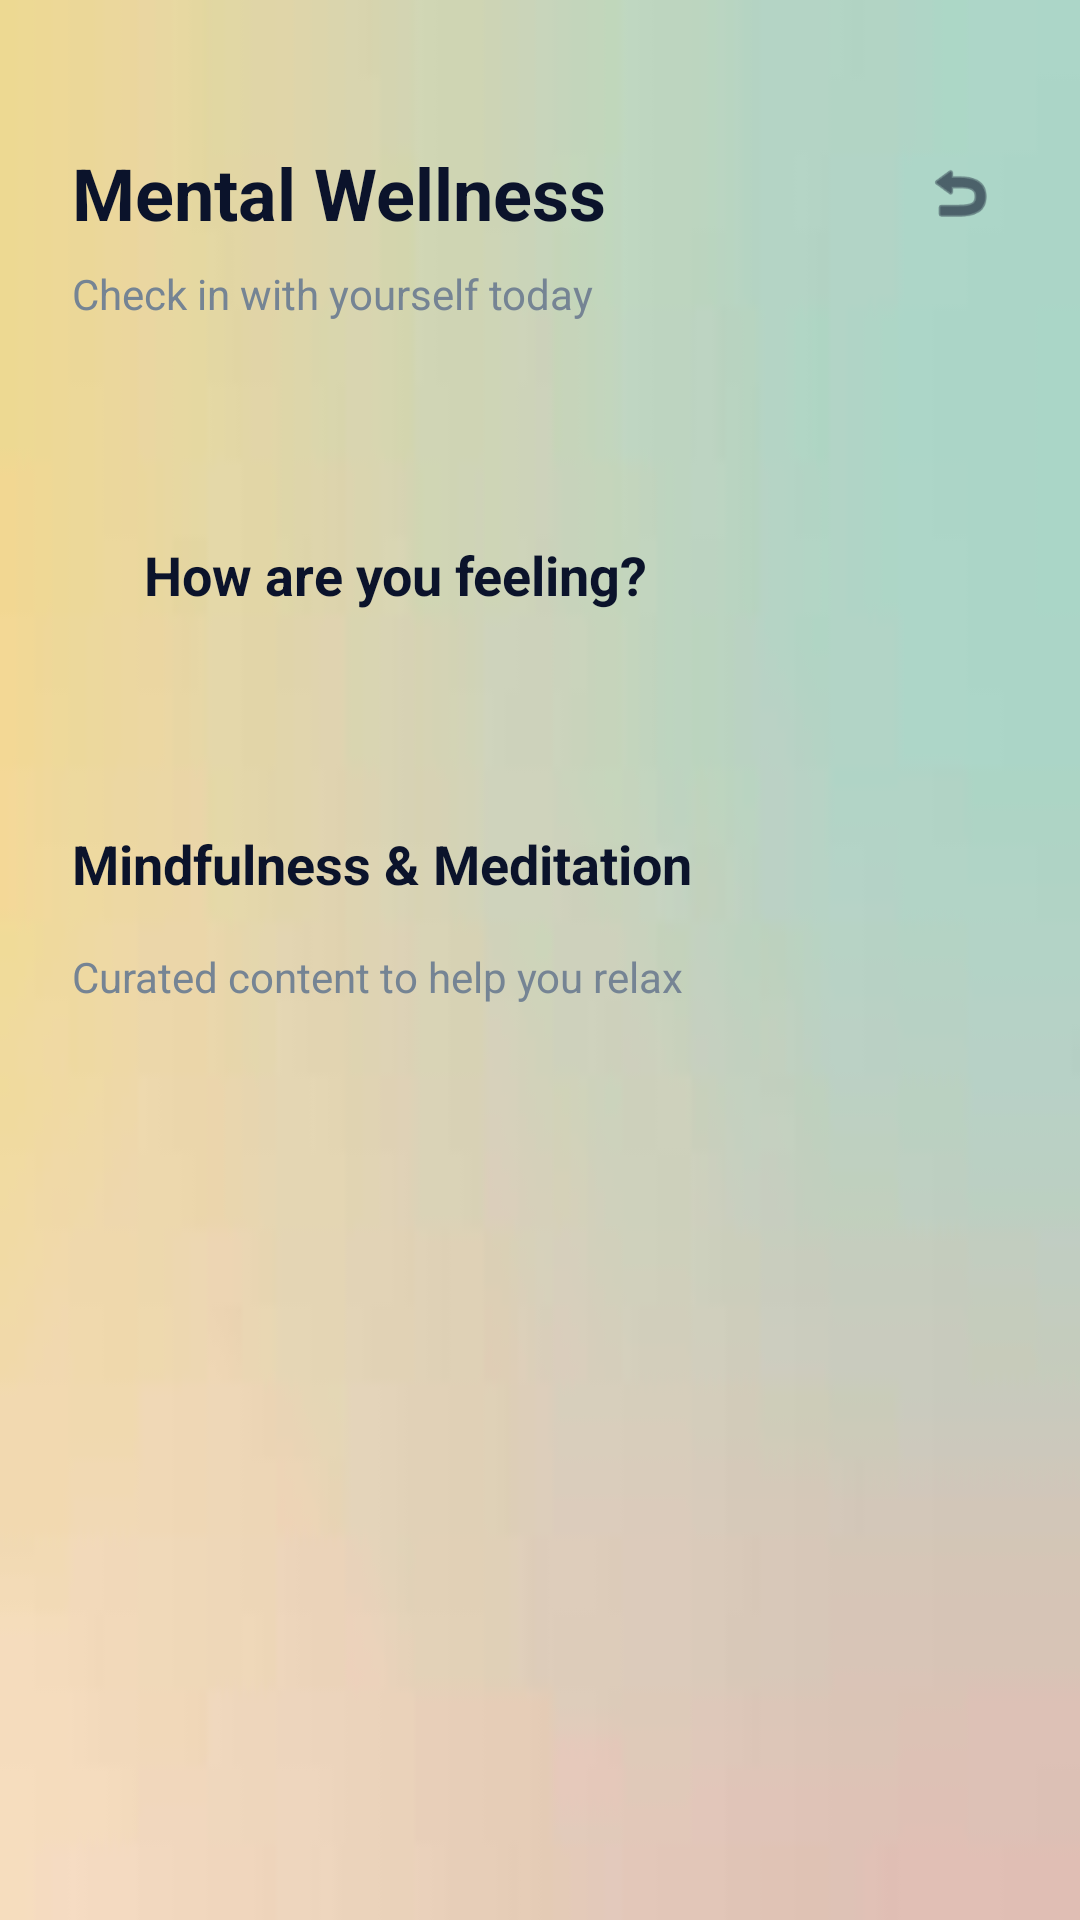

Where to tap for icons on this 1080w x 1920h app screen, as (x,y):
revert: (961,193)
